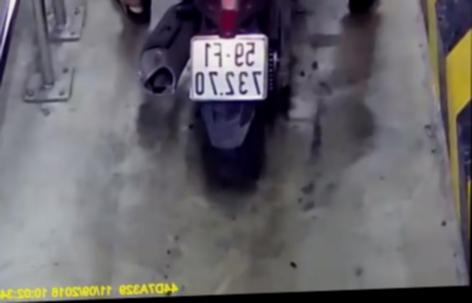License_Plate: (184, 28, 275, 104)
